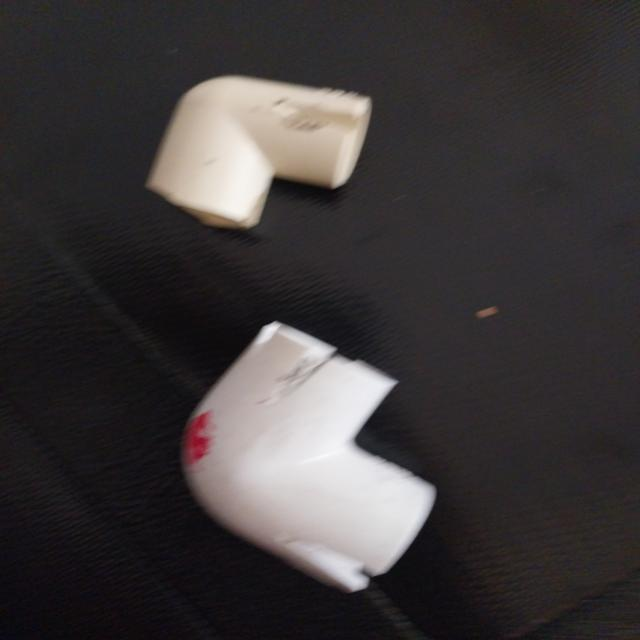Defective: (297, 104, 368, 133), (180, 426, 212, 464)
L Joint: (181, 322, 439, 595), (143, 77, 372, 232)
